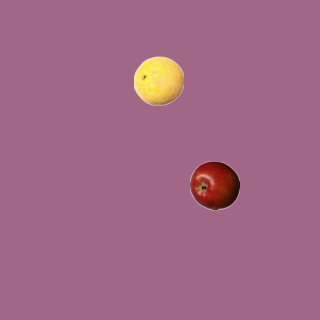Apple Braeburn: (189, 160, 239, 210)
Cantaloupe 1: (133, 55, 183, 105)
